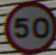Speed limit: (4, 1, 53, 50)
